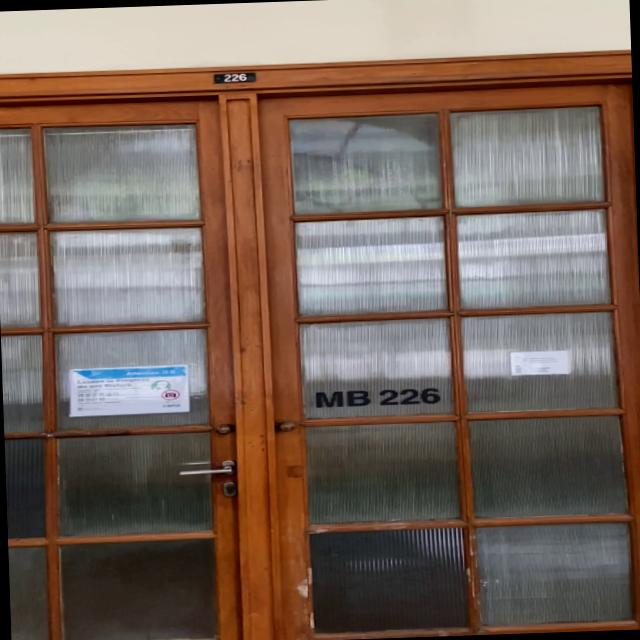room226: (212, 71, 262, 84)
room226Window: (316, 380, 448, 410)
